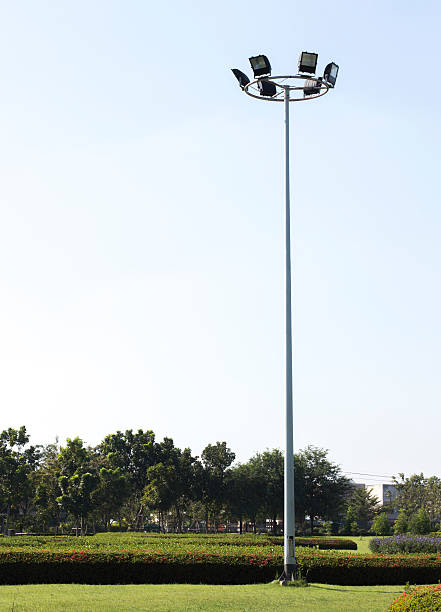light_pole: (280, 163, 304, 580)
